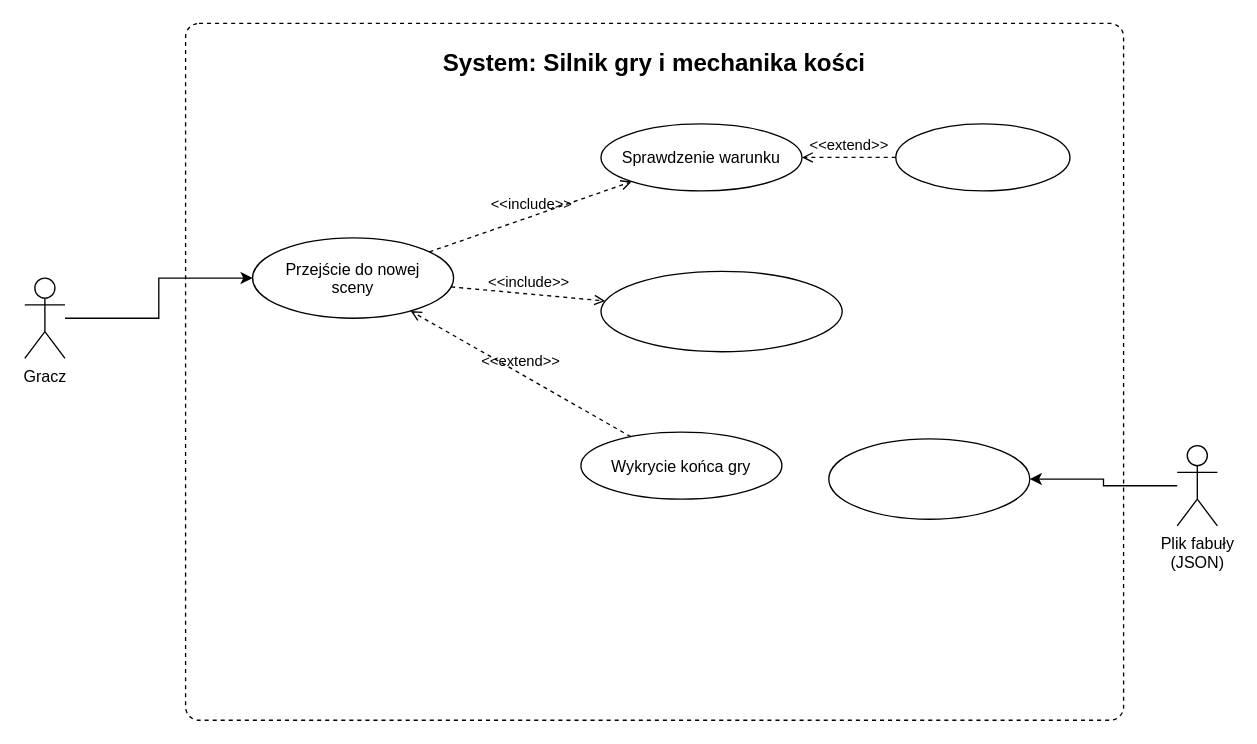
Some shapes in this 1257 by 744 pixel diagram are drawn without their labels. Here are the shapes that lost their labels. From the top down, the box of each, then its label:
(894, 123, 1070, 191): Rzut kością k20
(600, 270, 842, 352): Nałożenie efektu sceny na stan
(827, 438, 1030, 519): Wczytanie fabuły z pliku
